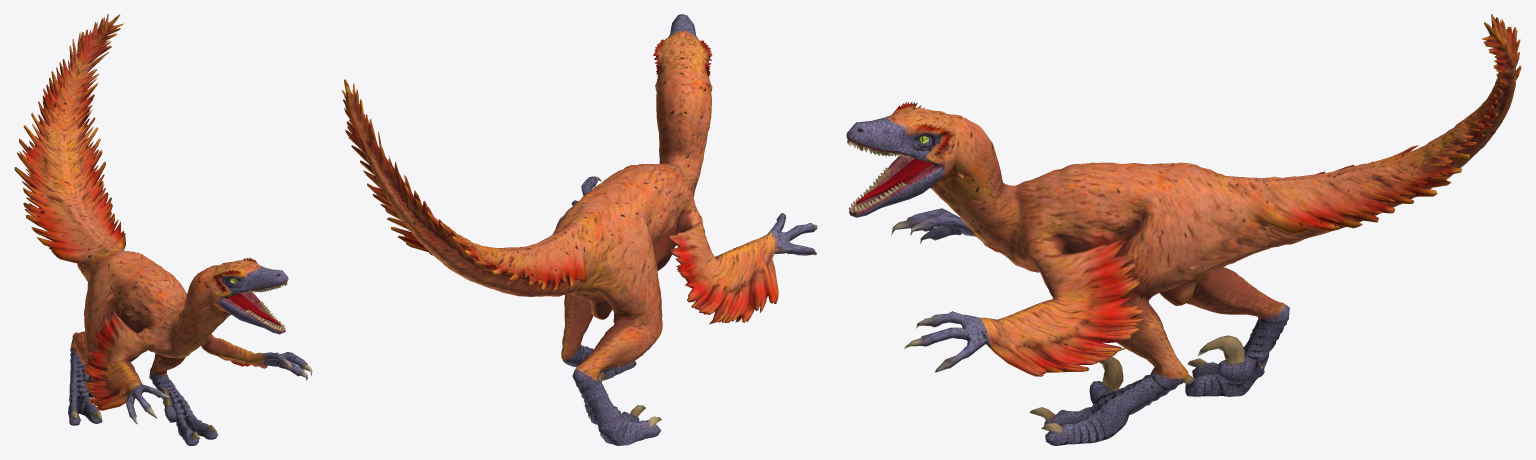
File: MZ4250 - Deinonychus, Feathered.glb
3 renders of one model, left to right at view 1: azimuth 30°, elevation 25°; view 2: azimuth 150°, elevation 25°; view 3: azimuth 270°, elevation 25°, orthographic. The views are drawn at different scales.
Visible parts, largest first — view 1: Deinonychus feathered.001; view 2: Deinonychus feathered.001; view 3: Deinonychus feathered.001.
Part boxes in pixels (<box>): Deinonychus feathered.001: <box>14,14,312,445</box>; Deinonychus feathered.001: <box>341,14,817,445</box>; Deinonychus feathered.001: <box>846,14,1521,445</box>.
Size of the model in its own units: 40.86 by 65.88 by 87.46.
Materials: 1 (1 with a texture image).
